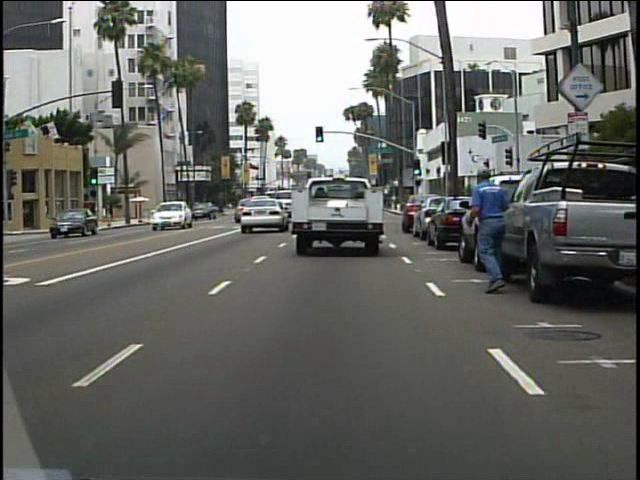person: (463, 163, 510, 292)
